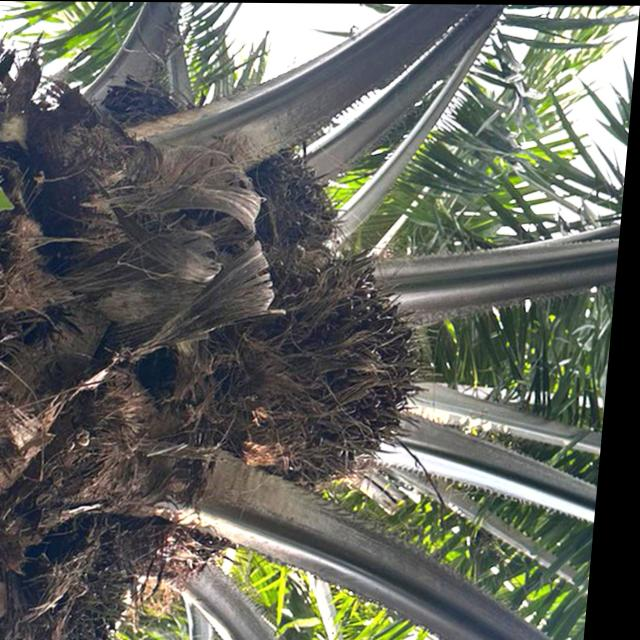unripe: (161, 245, 451, 499)
